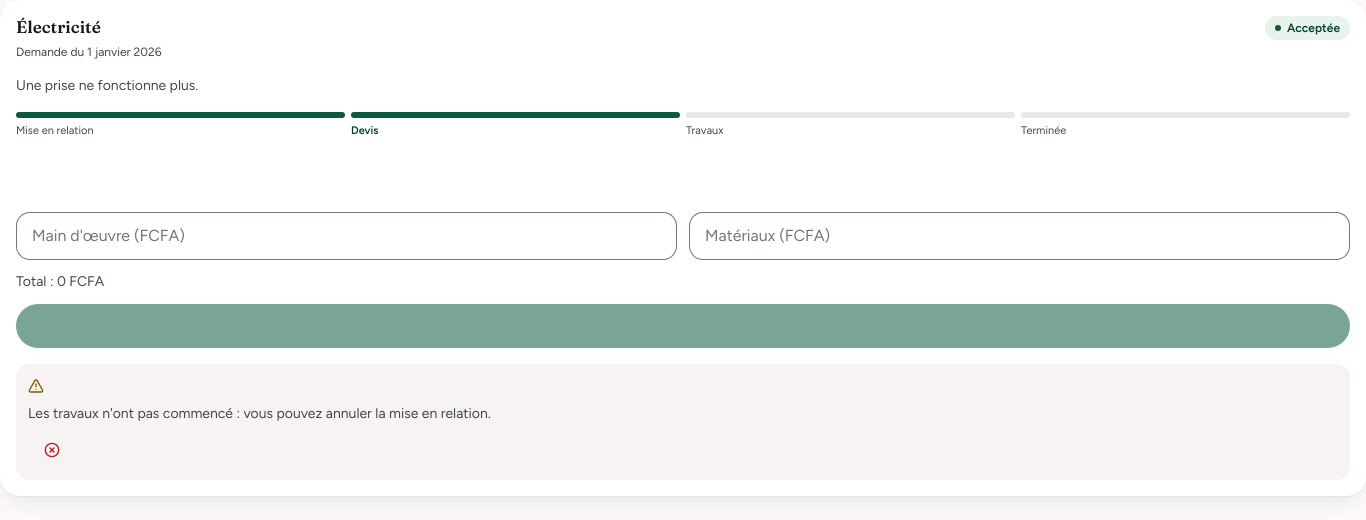
InterventionCard › artisan flow › submits a quote with a server-computed total, on an accepted intervention
Later steps or results of the test are not shown.
Type "15000" into the number field with placeholder "Main d'œuvre (FCFA)" at (346, 236), box [16,212,677,260]
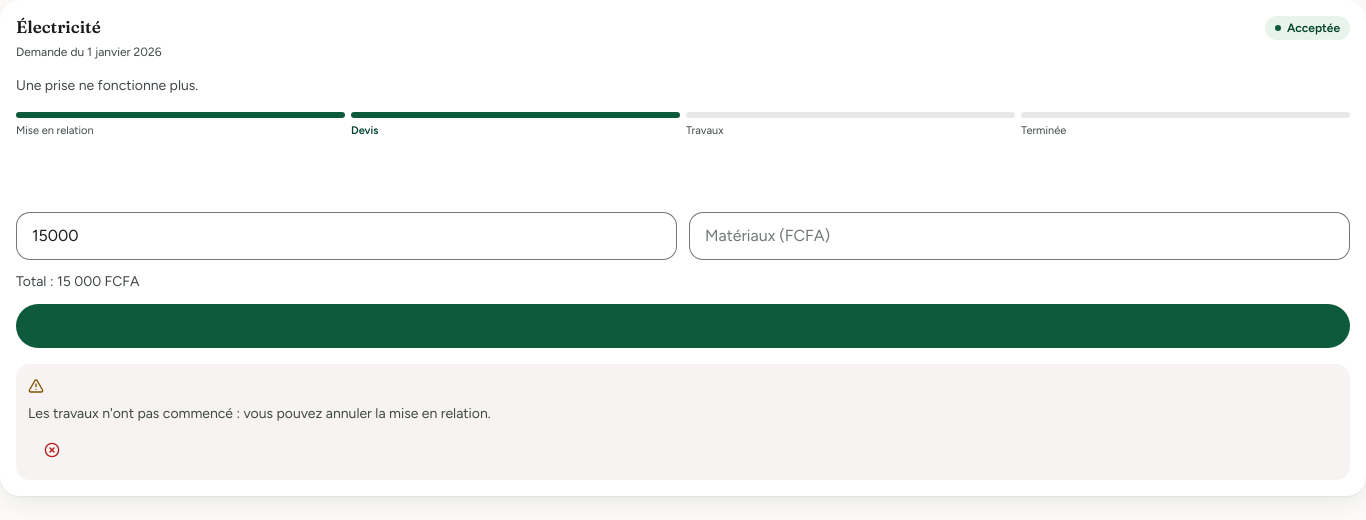
Type "5000" into the number field with placeholder "Matériaux (FCFA)" at (1020, 236), box [689,212,1350,260]
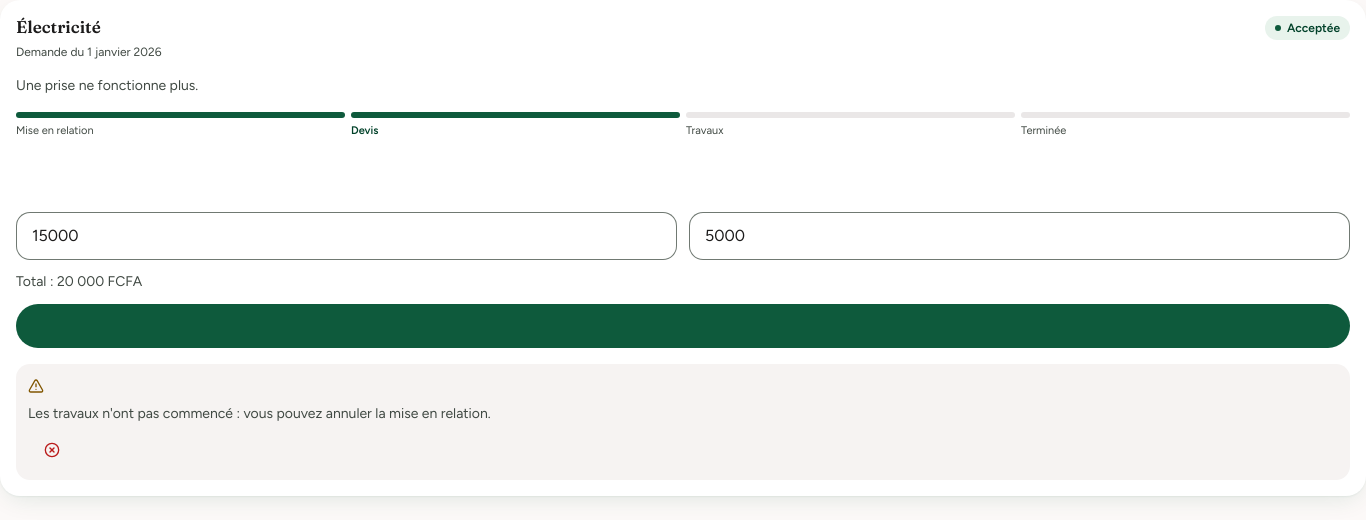
Now the text "Total : 20 000 FCFA" is shown, box [16,273,142,290]
